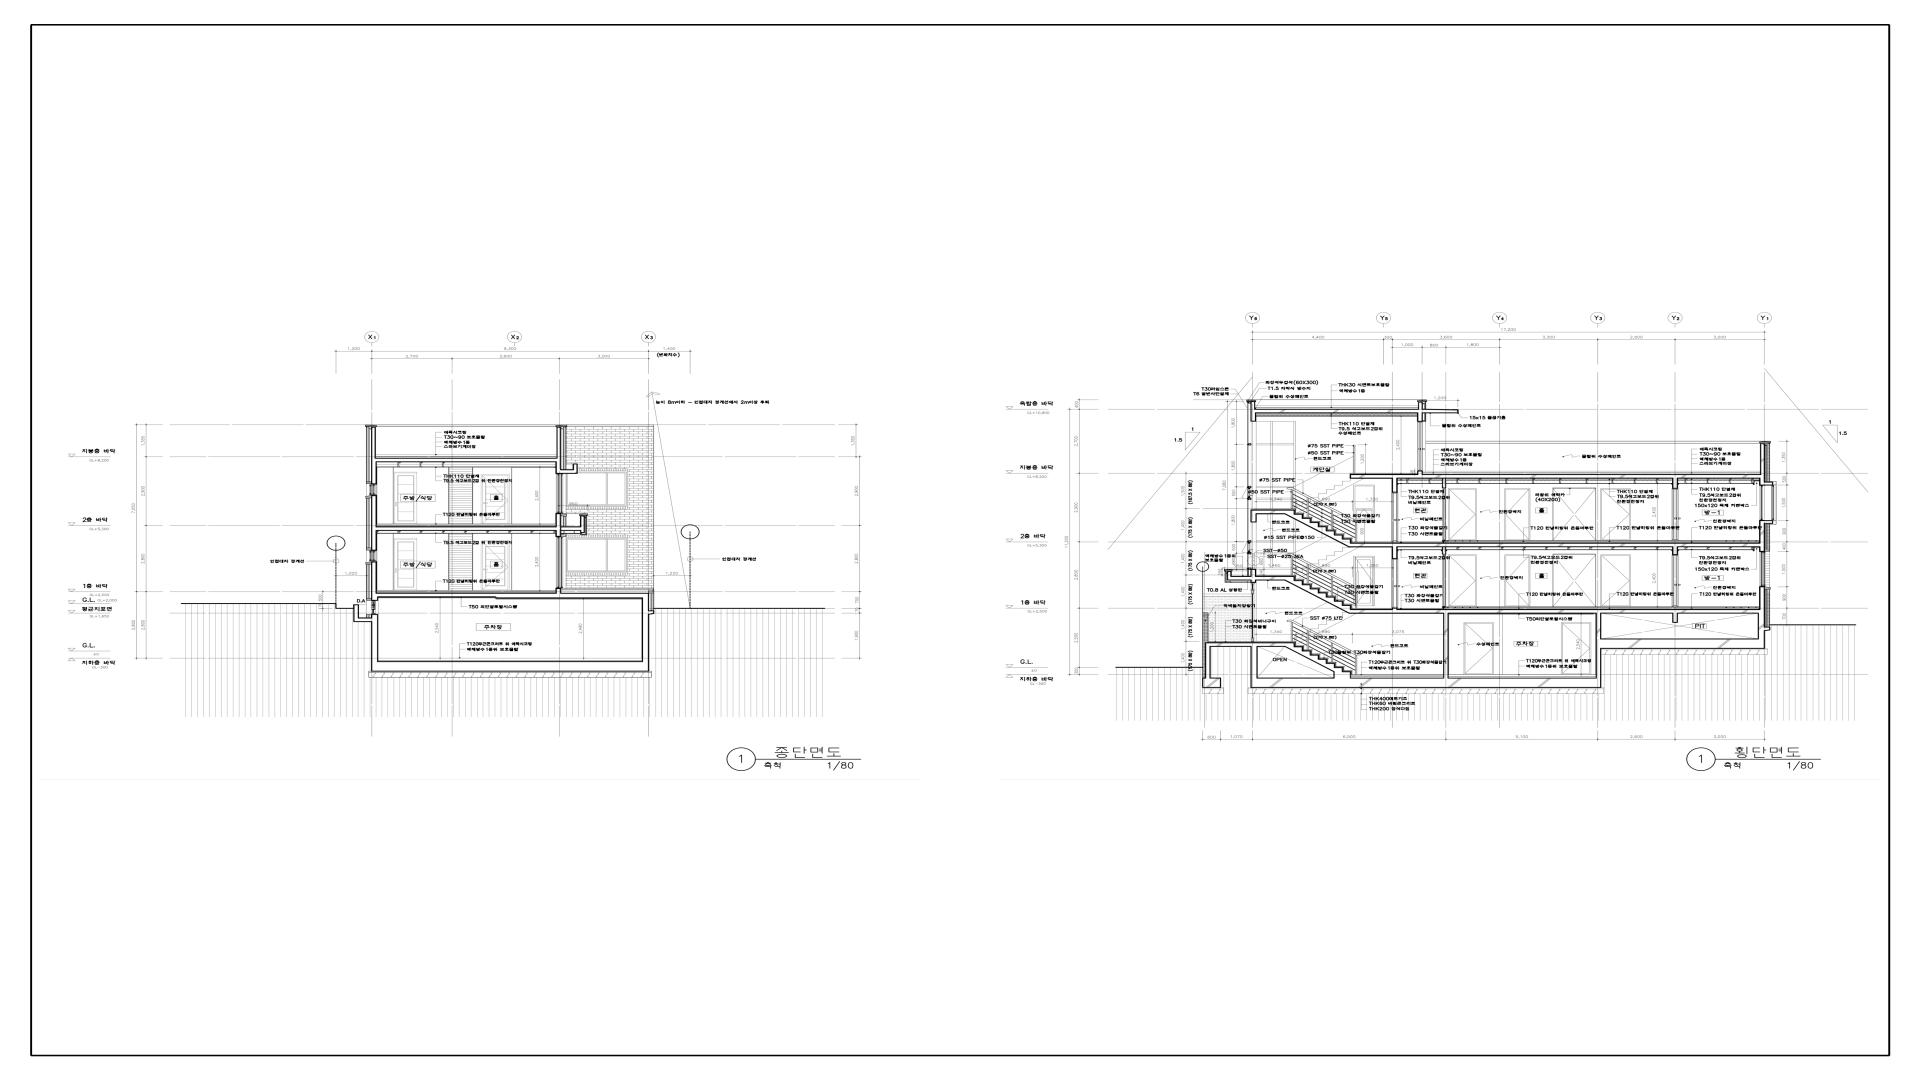door: (1553, 487, 1596, 541), (1553, 554, 1596, 607), (1561, 622, 1592, 675), (1464, 622, 1494, 675), (1601, 488, 1631, 541), (1601, 555, 1631, 607), (1448, 488, 1477, 540), (1448, 555, 1477, 607), (481, 474, 509, 524), (481, 541, 509, 590), (1505, 488, 1530, 541), (1505, 555, 1530, 607), (393, 538, 417, 590), (393, 472, 417, 524), (1354, 556, 1375, 606), (1672, 555, 1678, 607), (1672, 489, 1678, 541), (1251, 583, 1256, 642), (1392, 559, 1398, 608), (1392, 493, 1398, 542), (1417, 422, 1423, 471), (1442, 554, 1446, 608)
wall: (353, 562, 654, 672), (1351, 613, 1770, 688), (1350, 443, 1773, 493), (557, 425, 654, 610), (1351, 520, 1773, 559), (1351, 586, 1765, 623), (371, 427, 578, 484), (371, 495, 561, 551), (1202, 642, 1351, 688), (1250, 401, 1459, 422), (1203, 596, 1251, 642), (1227, 569, 1295, 583), (1248, 687, 1604, 689), (1251, 510, 1295, 522), (561, 515, 585, 533), (1601, 649, 1768, 650), (1202, 687, 1224, 689), (1442, 479, 1446, 488), (1442, 547, 1446, 554), (1423, 413, 1425, 421), (1423, 402, 1425, 409)
window: (1256, 421, 1296, 509), (1256, 514, 1296, 576), (566, 537, 628, 573), (566, 471, 628, 507), (1354, 485, 1375, 521), (1247, 401, 1251, 576), (556, 537, 563, 588), (556, 474, 563, 513), (1759, 552, 1765, 586), (1771, 485, 1776, 521), (1759, 486, 1764, 521), (371, 601, 378, 614), (369, 551, 377, 562), (369, 484, 377, 495)
